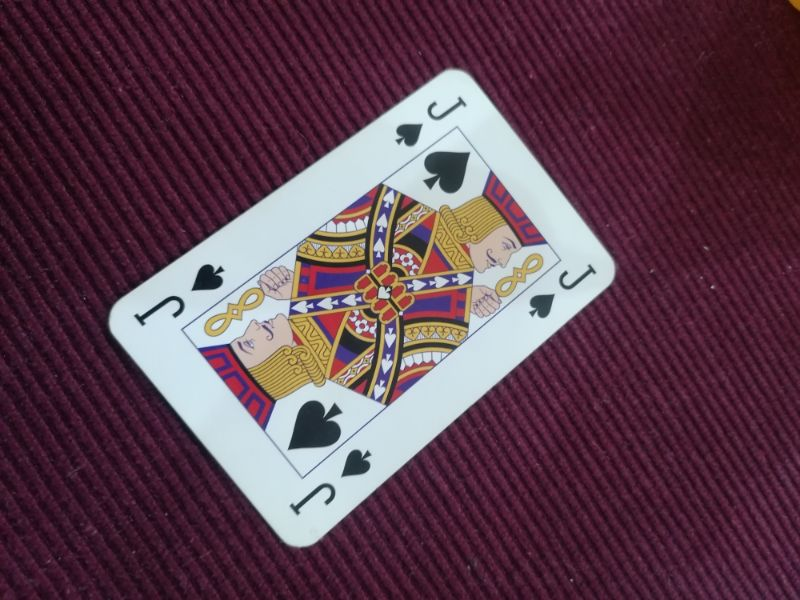Js: (288, 445, 376, 523), (132, 259, 229, 329), (525, 261, 602, 324), (392, 89, 470, 150)
